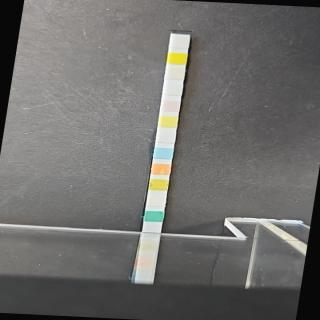mark: (164, 84, 182, 96), (153, 162, 169, 175), (155, 147, 172, 159), (160, 116, 177, 128), (145, 211, 163, 222), (162, 100, 178, 112), (169, 52, 185, 64), (150, 179, 167, 190), (158, 132, 175, 143), (166, 68, 183, 79), (148, 196, 164, 207), (171, 38, 188, 48)
